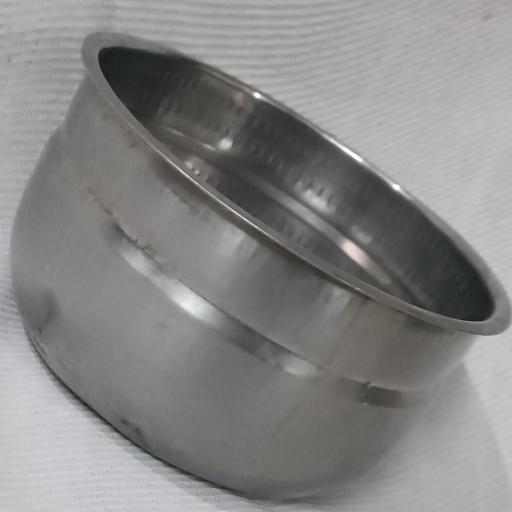vessel: (12, 34, 509, 496)
